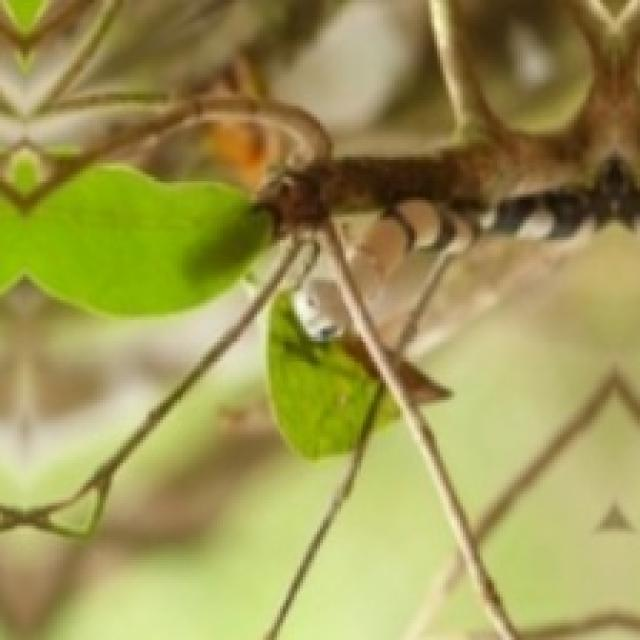king cobra: (350, 158, 640, 299), (291, 278, 350, 341)
